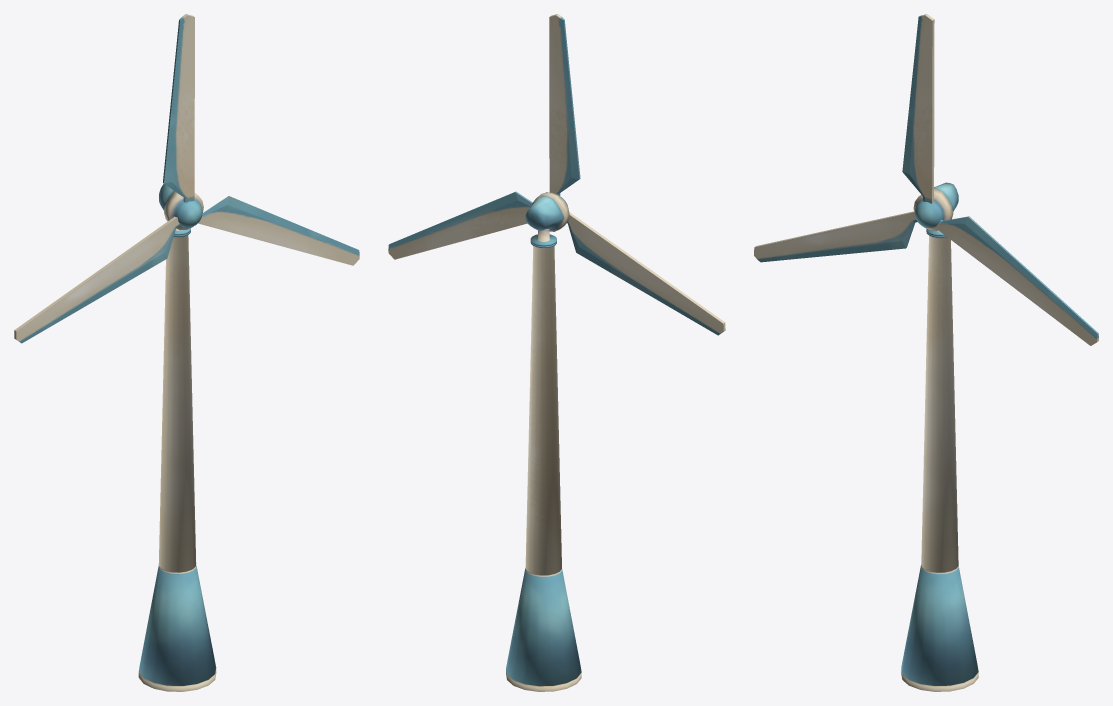
Rendered from EolicTurbine.fbx.
3 renders of one model, left to right at view 1: azimuth 30°, elevation 25°; view 2: azimuth 150°, elevation 25°; view 3: azimuth 330°, elevation 25°, orthographic. The views are drawn at different scales.
Visible parts, largest first — view 1: SM_EolicTurbine; view 2: SM_EolicTurbine; view 3: SM_EolicTurbine.
Part boxes in pixels (x1,y1,x2,y2): SM_EolicTurbine: [14, 14, 359, 691]; SM_EolicTurbine: [388, 14, 725, 691]; SM_EolicTurbine: [754, 14, 1098, 691].
Size of the model in its own units: 3258 by 6069 by 642.
